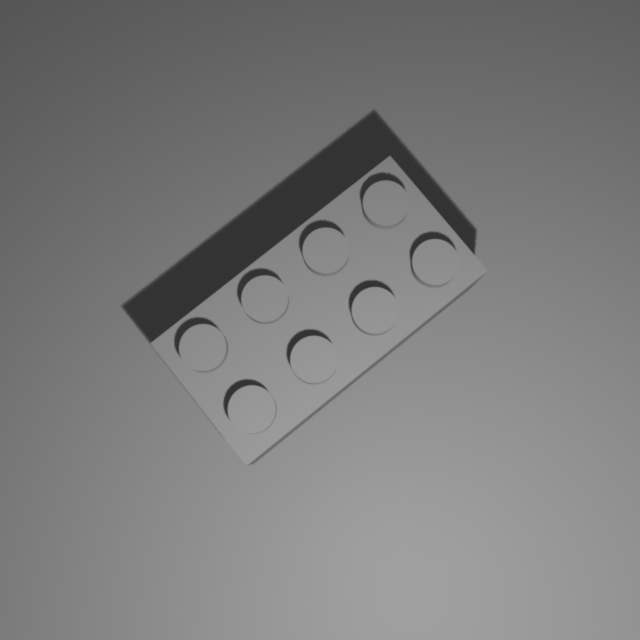lego_2x4: (147, 151, 491, 466)
